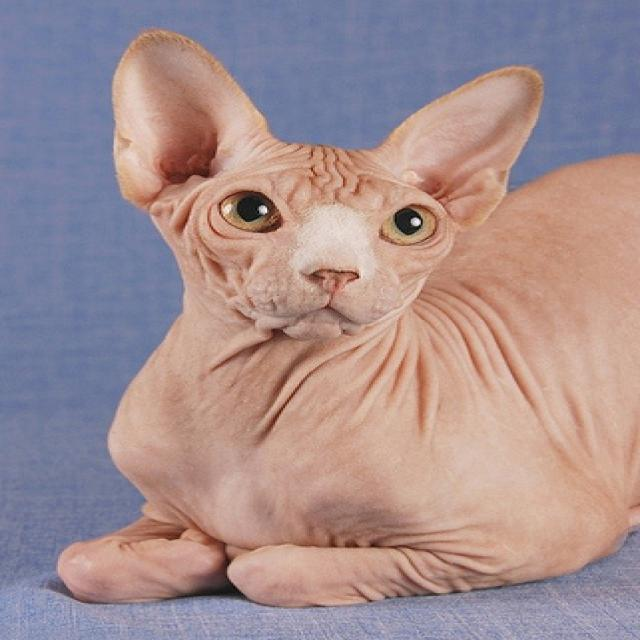Sphynx: (54, 22, 640, 612)
